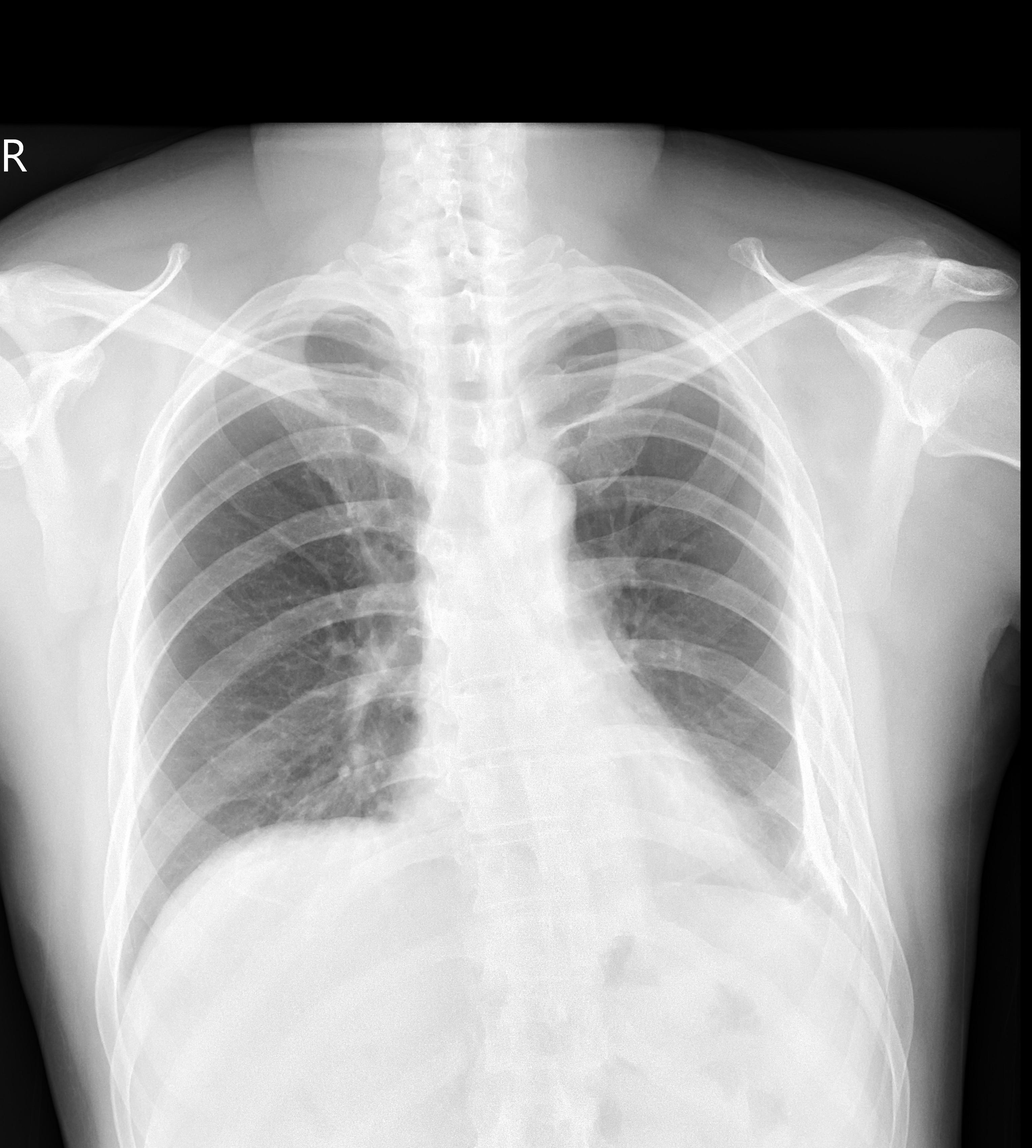Pleural thickening: (780, 584, 859, 947), (546, 299, 650, 326)
